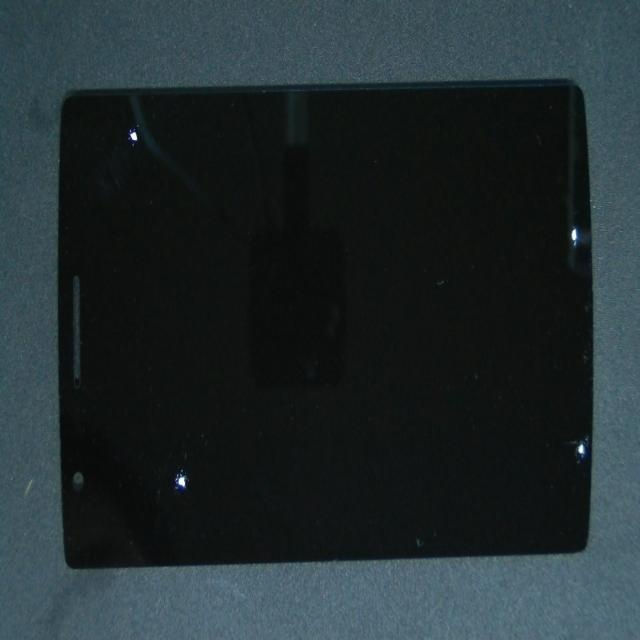stain: (306, 182, 640, 628), (293, 67, 640, 308), (111, 208, 271, 640), (64, 129, 221, 254)
